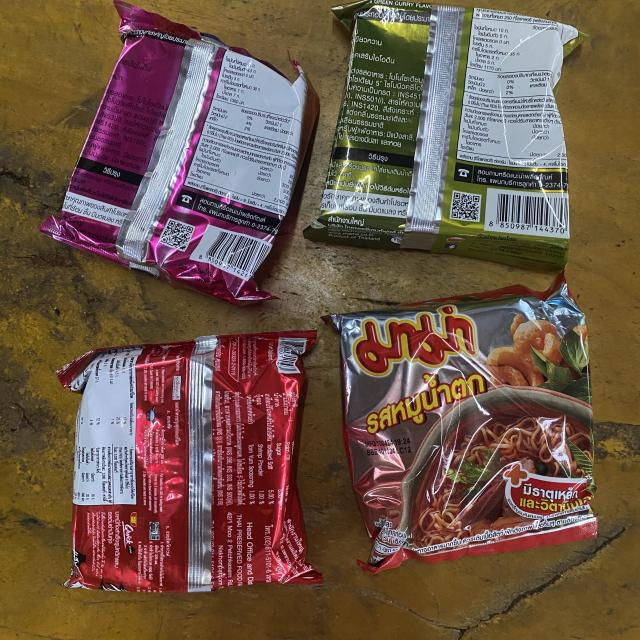plastik: (40, 0, 319, 304), (325, 274, 598, 572), (304, 0, 584, 270), (56, 331, 321, 592)
